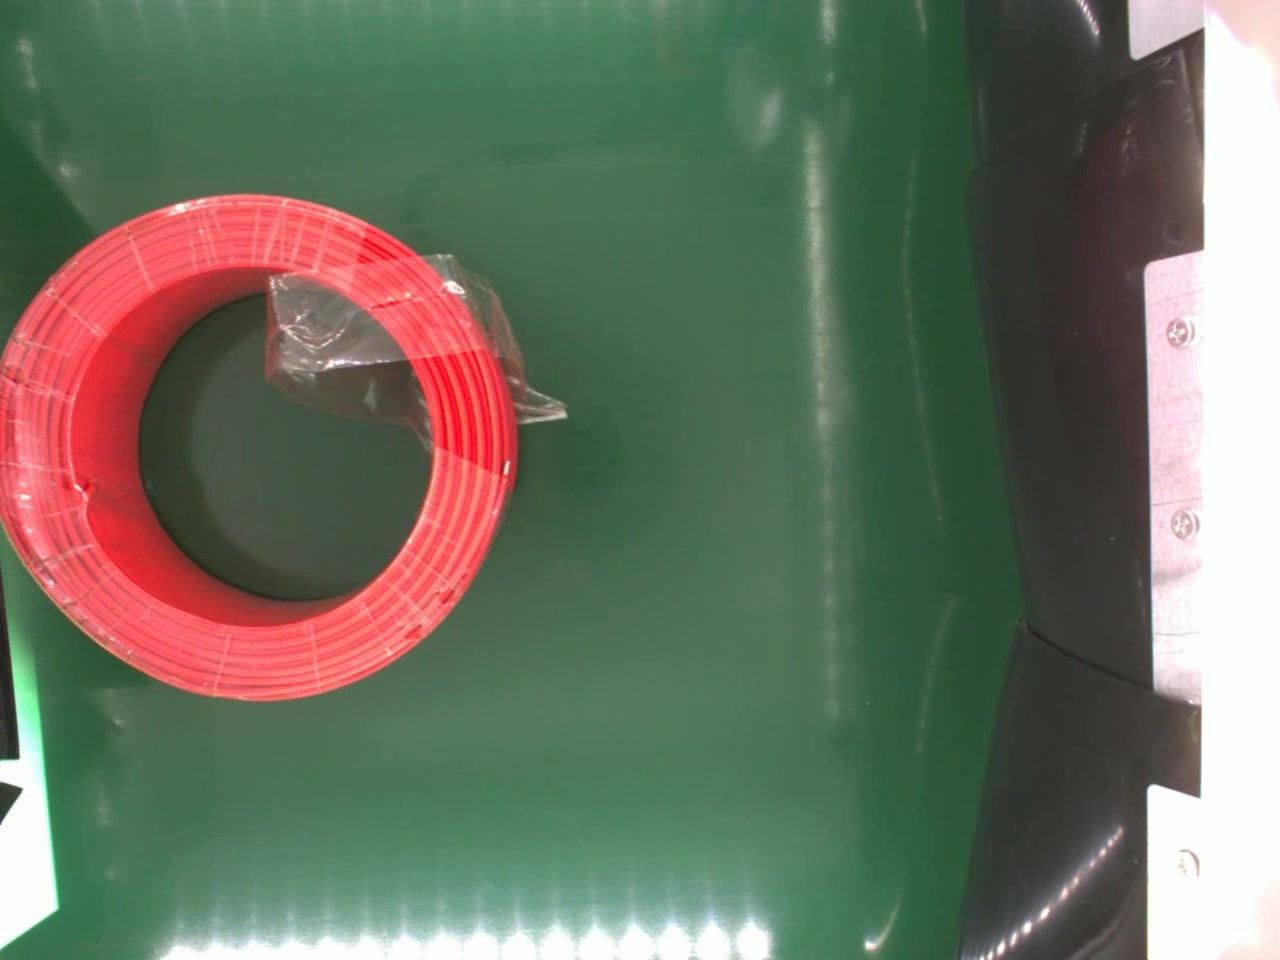red: (0, 186, 520, 702)
